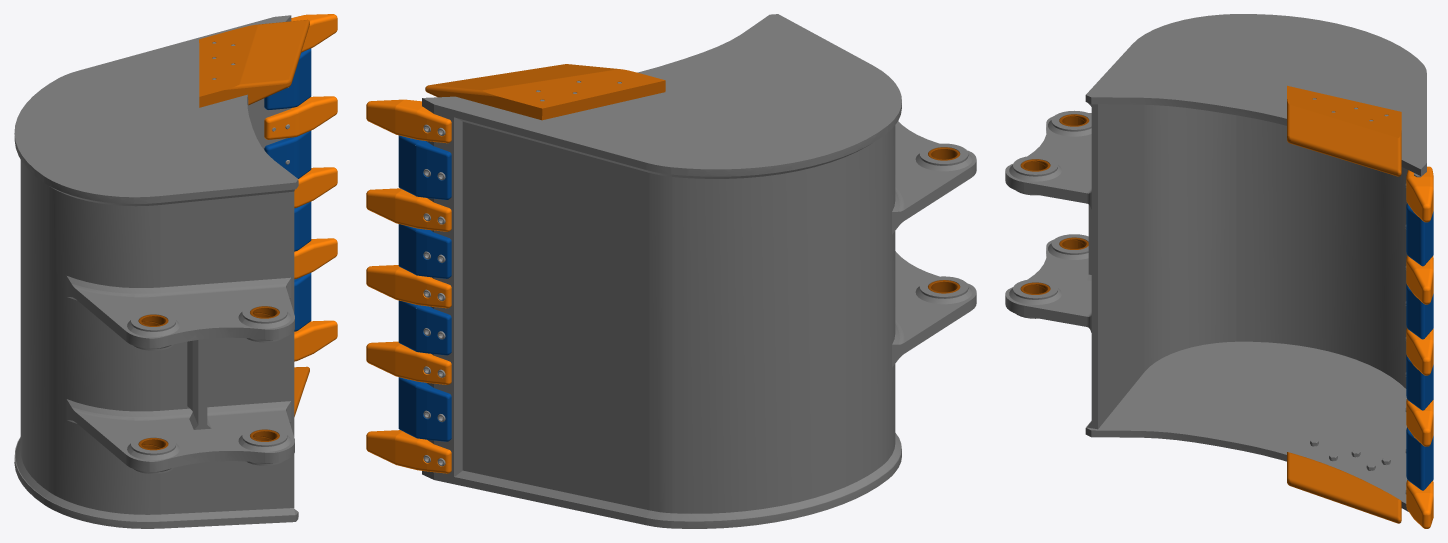
File: Сборка ковша.glb
3 renders of one model, left to right at view 1: azimuth 30°, elevation 25°; view 2: azimuth 150°, elevation 25°; view 3: azimuth 270°, elevation 25°, orthographic. The views are drawn at different scales.
Visible parts, largest first — view 1: empty_2, empty_23, empty_5, empty_11, empty_8, empty_3, empty_4, empty_7, empty_6, empty_9, empty_10, empty_12; view 2: empty_2, empty_23, empty_9, empty_8, empty_6, empty_3, empty_5, empty_4, empty_7, empty_10, empty_11; view 3: empty_2, empty_23, empty_12, empty_8, empty_9, empty_6, empty_11, empty_10, empty_3, empty_5, empty_4, empty_7.
Boxes of the visible parts, <box> form: empty_2: <box>14,15,298,528</box>; empty_23: <box>199,19,309,107</box>; empty_5: <box>264,96,337,139</box>; empty_11: <box>264,131,311,178</box>; empty_8: <box>264,48,311,109</box>; empty_3: <box>294,320,337,361</box>; empty_4: <box>294,238,337,279</box>; empty_7: <box>294,167,337,208</box>; empty_6: <box>291,14,337,52</box>; empty_9: <box>294,273,311,331</box>; empty_10: <box>294,202,311,251</box>; empty_12: <box>294,366,309,416</box>; empty_2: <box>422,14,976,528</box>; empty_23: <box>425,64,665,120</box>; empty_9: <box>398,377,451,441</box>; empty_8: <box>398,135,451,199</box>; empty_6: <box>366,99,451,143</box>; empty_3: <box>366,430,451,473</box>; empty_5: <box>366,188,451,231</box>; empty_4: <box>366,341,451,384</box>; empty_7: <box>366,265,451,308</box>; empty_10: <box>398,300,451,355</box>; empty_11: <box>398,224,451,278</box>; empty_2: <box>1005,14,1426,511</box>; empty_23: <box>1287,85,1401,176</box>; empty_12: <box>1287,452,1401,523</box>; empty_8: <box>1406,203,1433,266</box>; empty_9: <box>1406,427,1433,490</box>; empty_6: <box>1406,166,1433,222</box>; empty_11: <box>1406,284,1433,339</box>; empty_10: <box>1406,355,1433,410</box>; empty_3: <box>1406,480,1433,528</box>; empty_5: <box>1406,255,1433,304</box>; empty_4: <box>1406,399,1433,446</box>; empty_7: <box>1406,328,1433,375</box>.
Size of the model in its own units: 1185 by 1076 by 1133.
